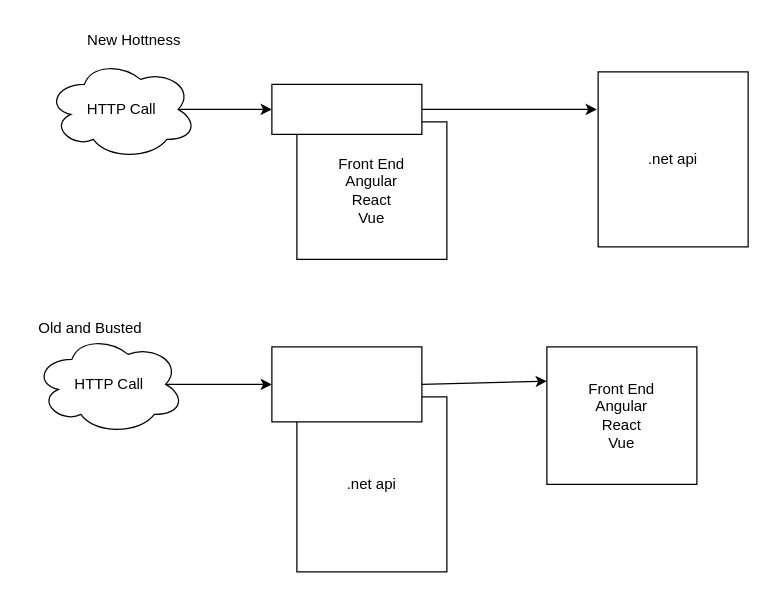
Some shapes in this 770 by 594 pixel diagram are drawn without their labels. Here are the shapes that lost their labels. From the top down, the centre of each, then its label:
At pixel 346 108: "JS Proxy".
At pixel 346 384: ".Net Proxy".
